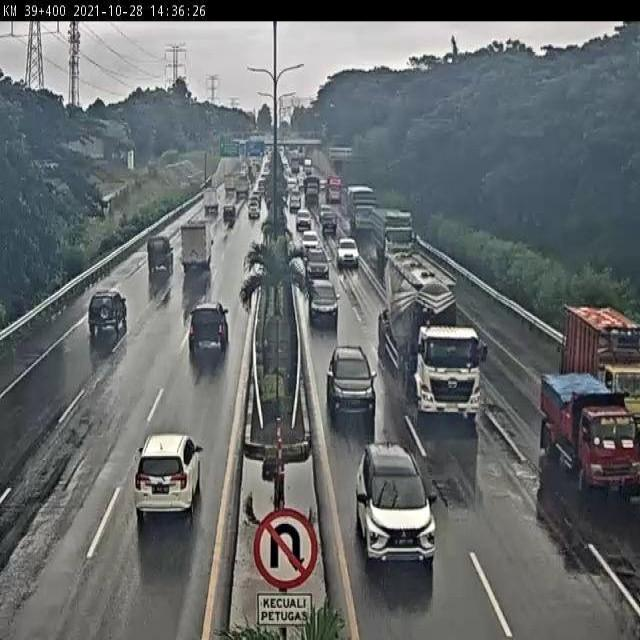big truck: (378, 253, 481, 424), (371, 205, 414, 263), (178, 222, 214, 274)
car: (354, 441, 438, 567), (135, 435, 202, 520), (323, 334, 373, 402), (187, 302, 230, 358), (87, 289, 127, 339), (306, 275, 340, 325), (139, 237, 173, 284), (303, 244, 331, 281), (336, 237, 360, 268), (300, 230, 319, 250), (246, 200, 262, 223), (223, 203, 238, 225)
small truck: (537, 372, 640, 500), (556, 305, 640, 432), (201, 188, 219, 216)
